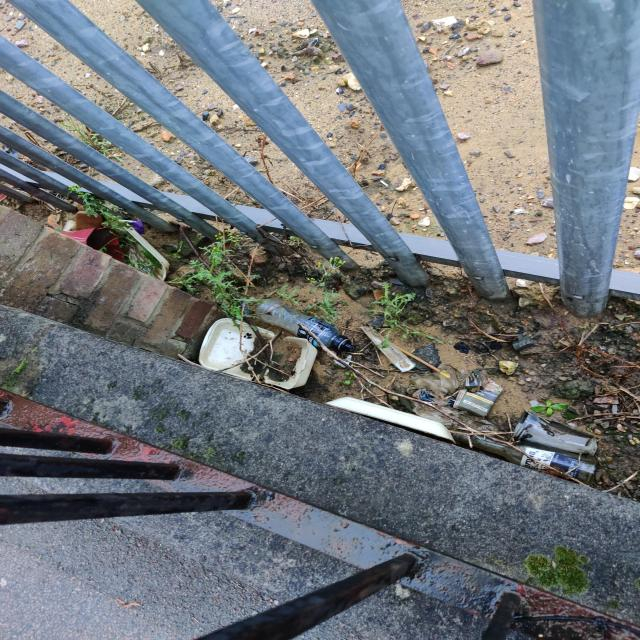litter: (192, 316, 323, 391), (451, 427, 606, 489), (321, 393, 460, 451), (404, 361, 505, 437), (252, 296, 359, 354), (506, 409, 608, 456), (377, 330, 460, 381), (109, 220, 173, 286), (45, 225, 129, 267), (359, 325, 420, 380), (449, 368, 509, 421), (329, 333, 362, 356), (114, 218, 146, 238)
